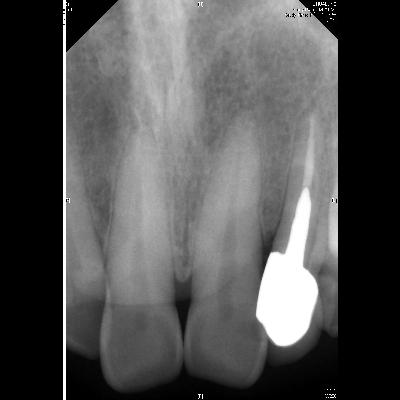tooth: (180, 104, 268, 390), (100, 120, 182, 394)
